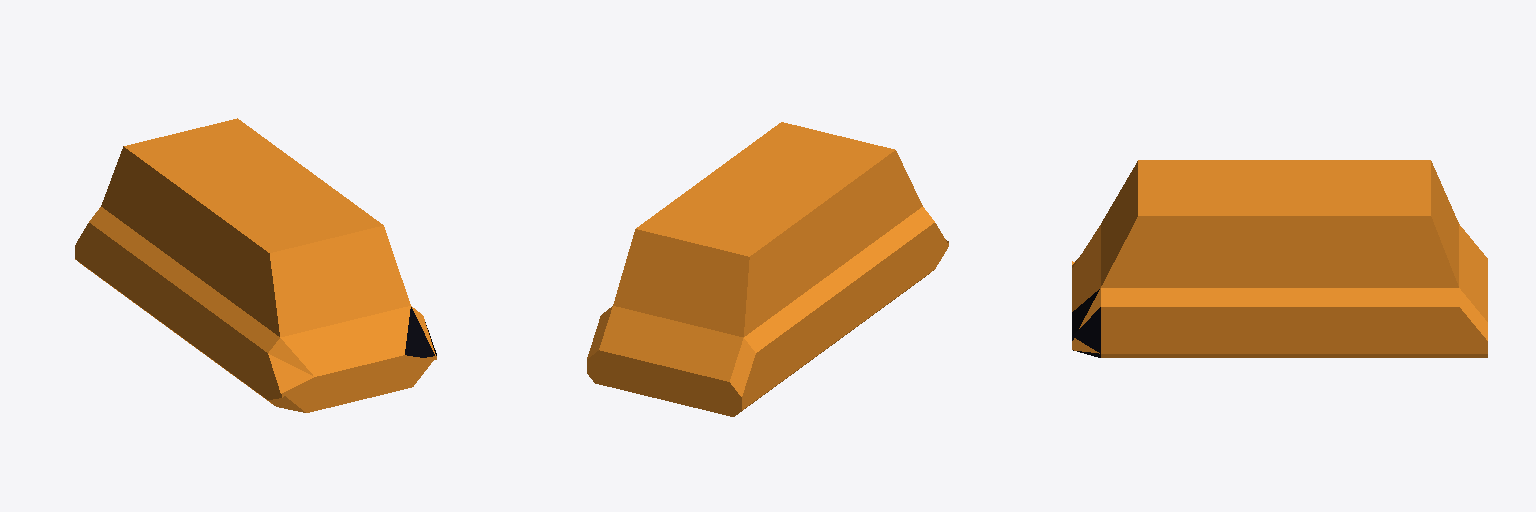
File: vehicle_retro_van_simple.obj
3 views of the same model, side by side, from view 1: azimuth 30°, elevation 25°; view 2: azimuth 150°, elevation 25°; view 3: azimuth 270°, elevation 25° (orthographic).
Size of the model in its own units: 1.9 by 1.6 by 4.4.